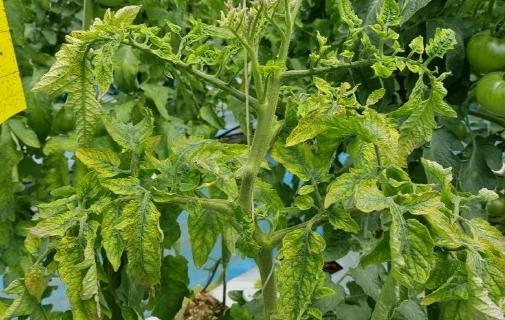Tomato leaf yellow virus: (114, 192, 169, 305), (273, 217, 330, 320), (381, 80, 450, 163), (50, 224, 104, 320), (460, 214, 505, 320), (385, 214, 433, 300), (186, 204, 228, 272), (282, 105, 330, 160), (316, 164, 375, 207), (21, 206, 92, 241), (63, 148, 126, 177), (350, 181, 393, 215), (410, 188, 444, 221)
